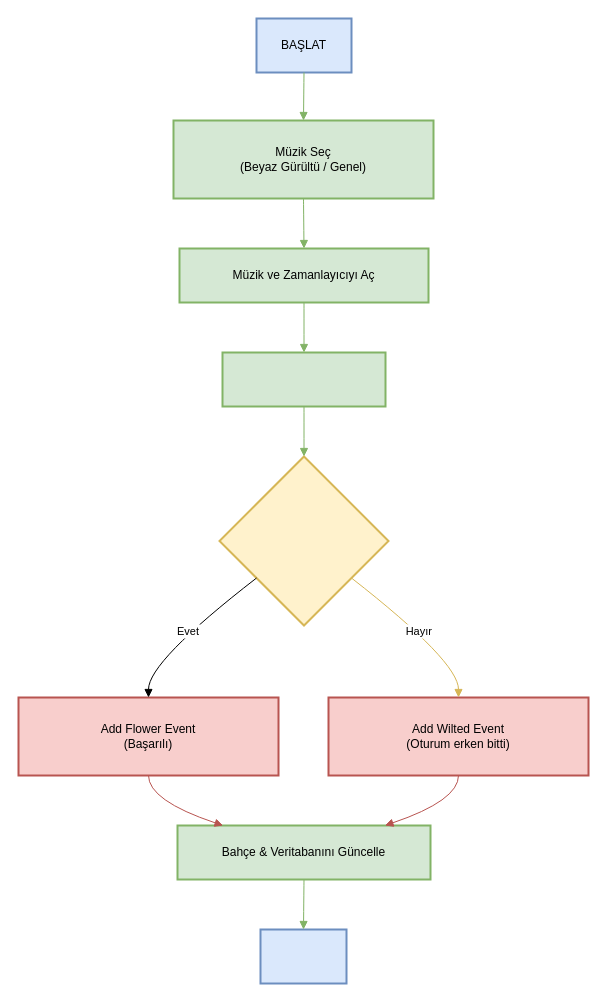
This 606x1001 diagram has some shape labels left out. Each missing label, with the box of its shape:
BİTİR: (259, 928, 347, 984)
Zamanlayıcı Çalışıyor: (221, 351, 386, 407)
Çalışılan zaman > 15 dk: (218, 455, 389, 626)
